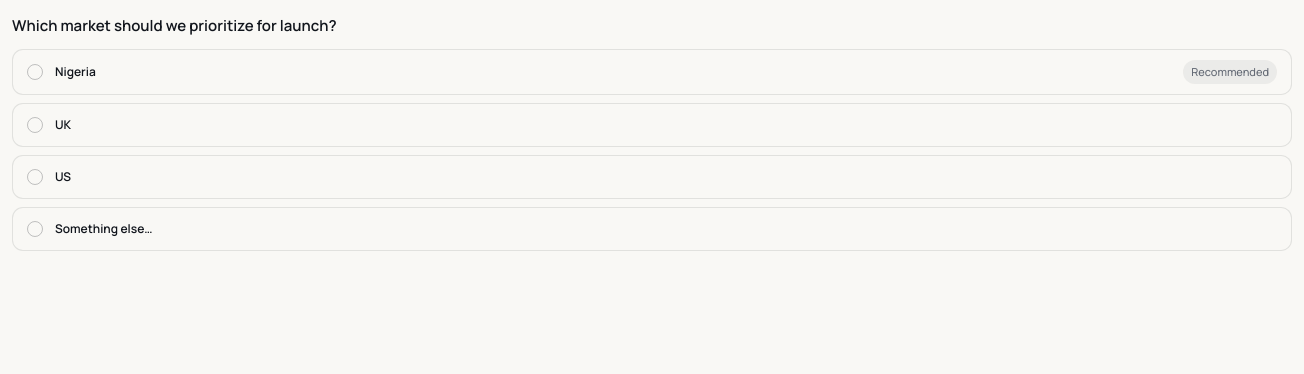
Test: Manager interruption UI › shows choices as compact decision rows and integrates the recommendation
The width and height of the screenshot is (1304, 374).
Expected: the text "Which market should we prioritize for launch?" is shown, x1=12 y1=15 x2=337 y2=36
Expected: the button "Nigeria Recommended" is shown, x1=12 y1=49 x2=1292 y2=95
Click the button "Something else…": (104, 228) x1=12 y1=207 x2=1292 y2=251
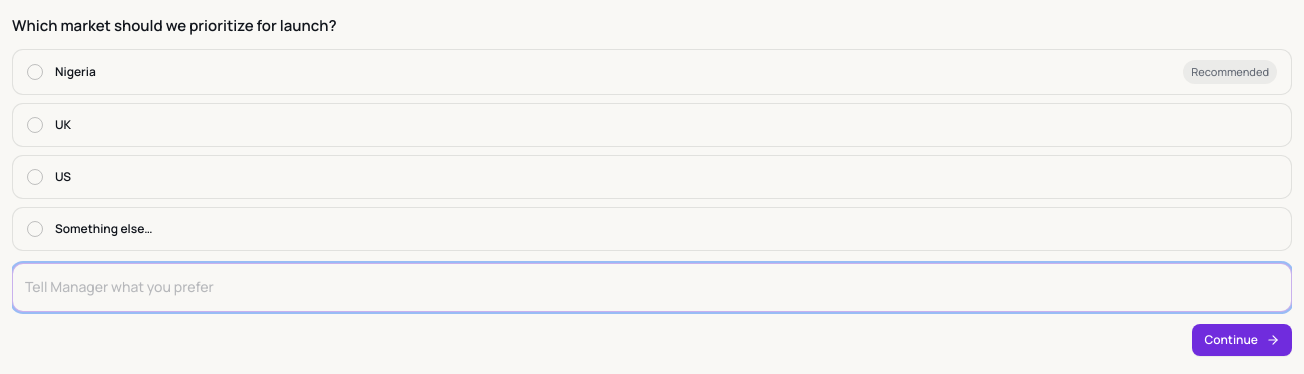
Expected: the text box named "Which market should we prioritize for launch?" is shown, x1=12 y1=263 x2=1292 y2=312
